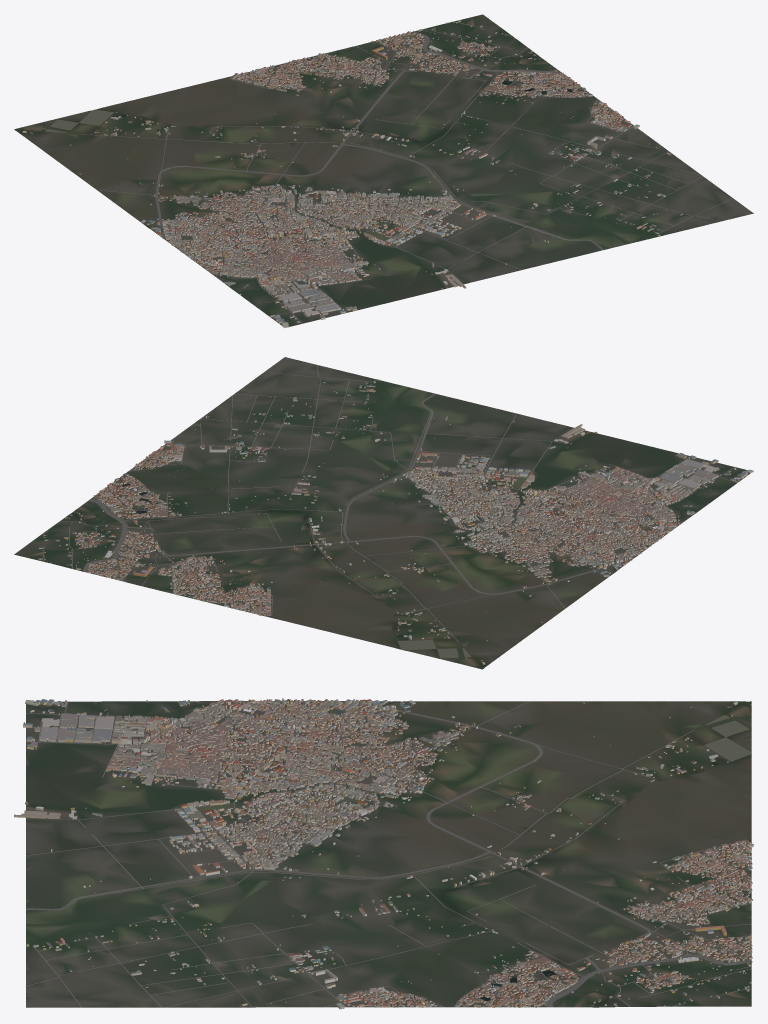
3 renders of one model, top to bottom at view 1: azimuth 30°, elevation 25°; view 2: azimuth 150°, elevation 25°; view 3: azimuth 270°, elevation 25°, orthographic. The views are drawn at different scales.
Parts seen in each view (by area): view 1: ground, buildings, roads, water; view 2: ground, buildings, roads, water; view 3: ground, buildings, roads, water.
Part boxes in pixels (box(x1,y1,x2,y2)): ground: box(14, 14, 753, 326); buildings: box(20, 20, 682, 328); roads: box(80, 21, 732, 323); water: box(33, 57, 572, 227); ground: box(14, 357, 749, 669); buildings: box(38, 379, 753, 667); roads: box(42, 365, 737, 642); water: box(86, 483, 615, 661); ground: box(26, 701, 751, 1007); buildings: box(14, 698, 753, 1009); roads: box(26, 700, 752, 1007); water: box(393, 701, 751, 1000).
Bounding box in the file's own units: 2823 × 30.54 × 2859.
